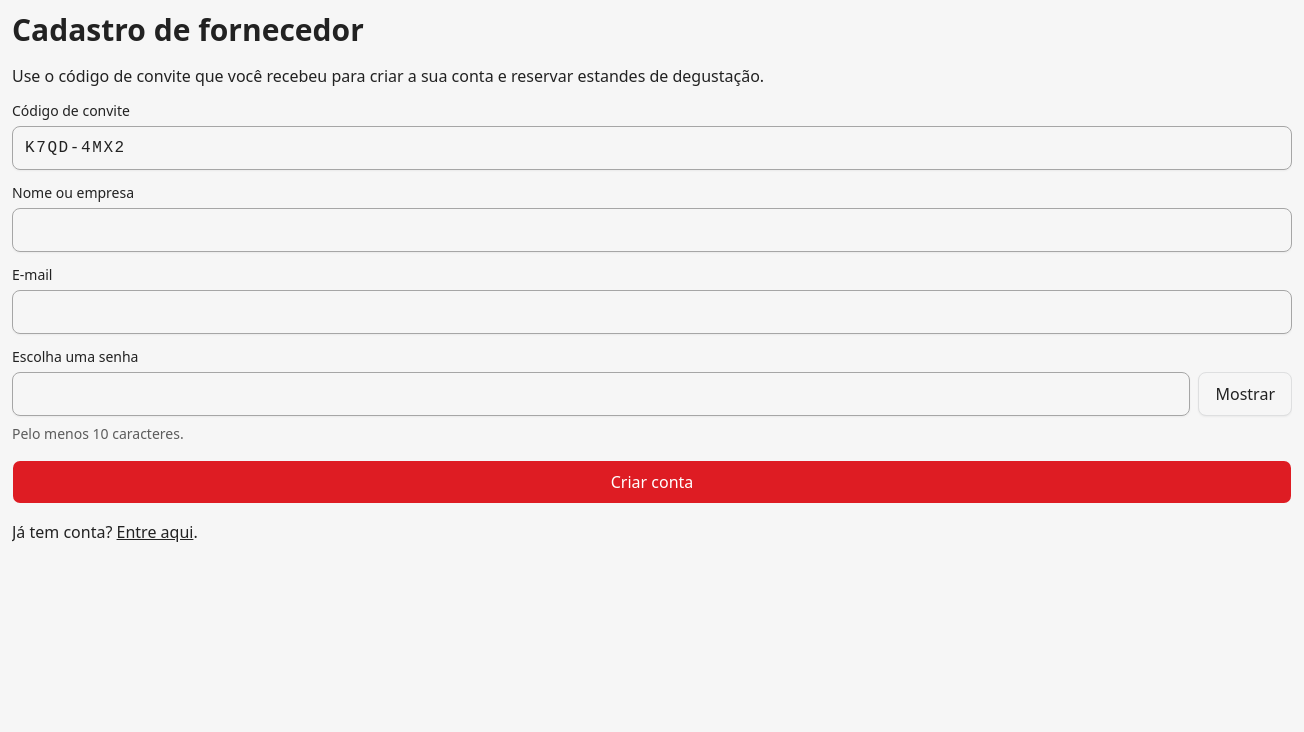
Test case: cadastro com código › conta criada mas a entrada falha: diz que a conta existe
Type "Loja Nova" into the field labelled "Nome ou empresa". click: point(652, 230)
box: [12,208,1292,252]
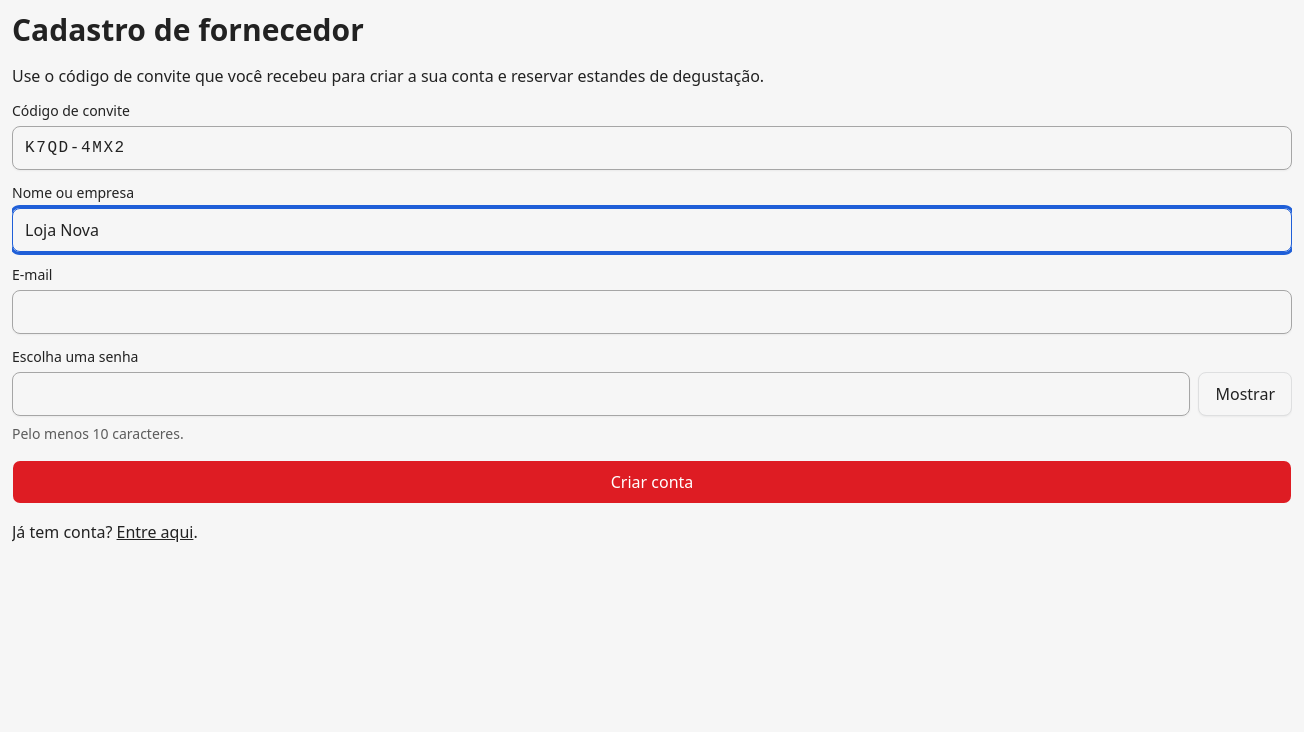
Type "nova@loja.com" into the field labelled "E-mail". click: point(652, 312)
box: [12,290,1292,334]
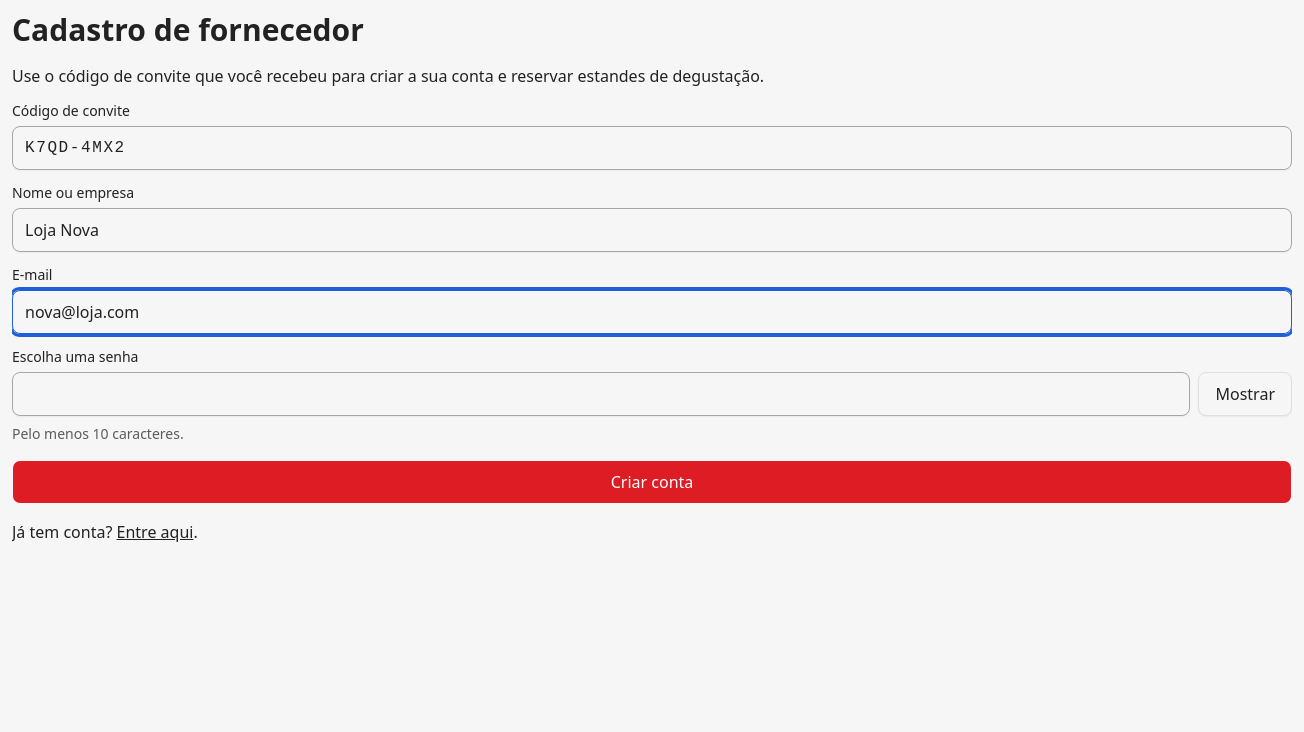
Type "uma-senha-bem-longa" into the password field labelled "Escolha uma senha". click: point(601, 394)
box: [12,372,1190,416]
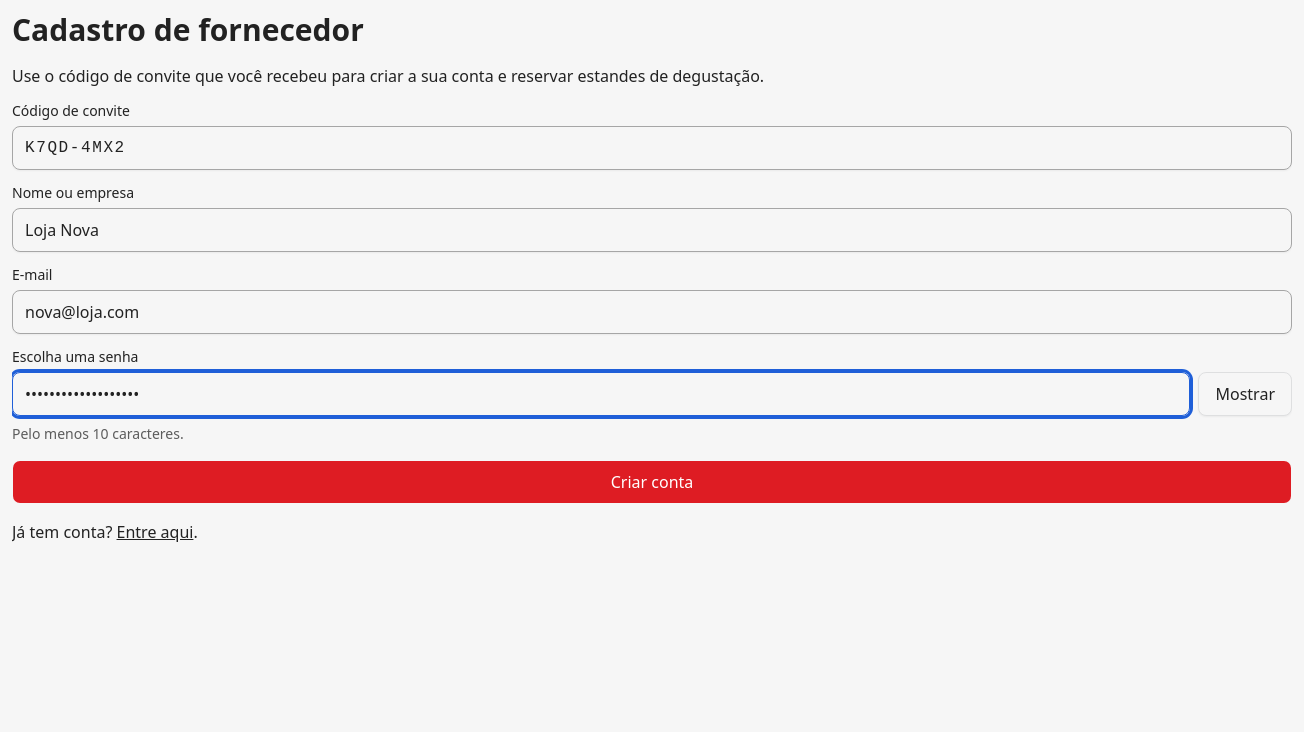
Click the button "Criar conta". click: point(652, 482)
box: [12,460,1292,504]
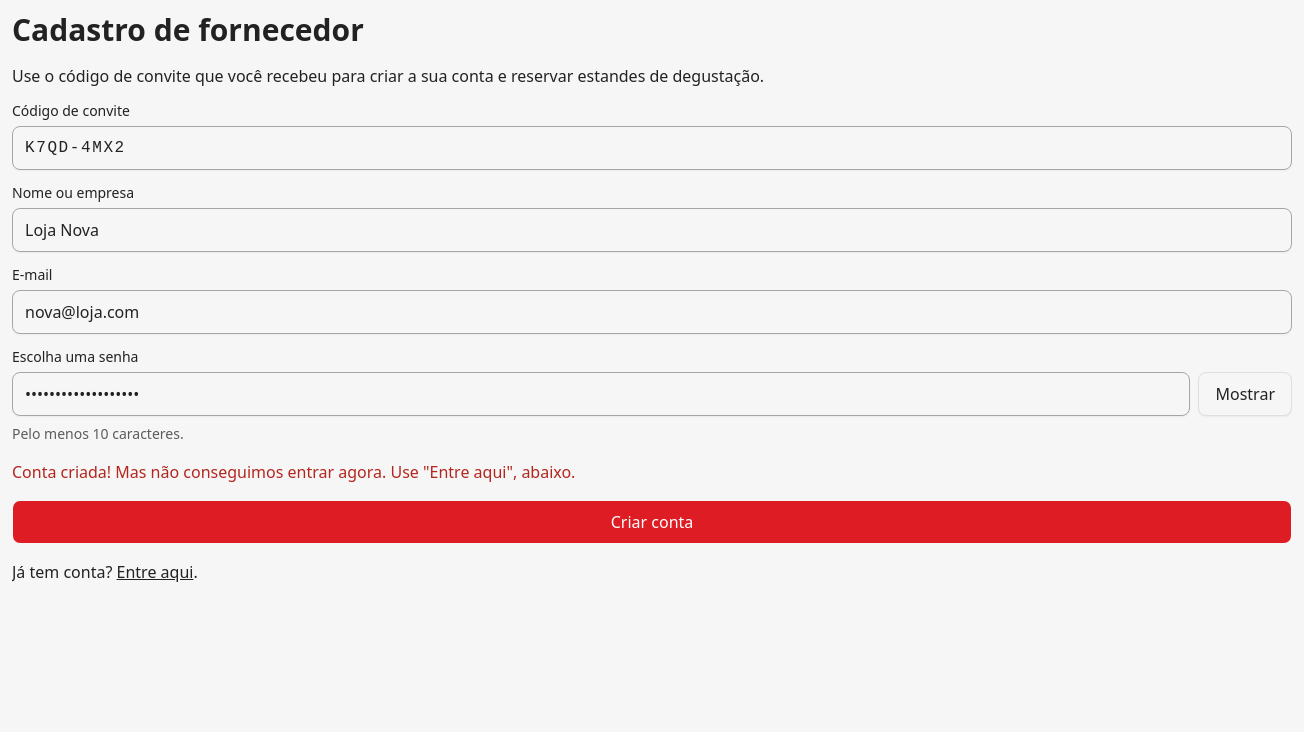
Expected: the message shows "Conta criada!", [12,461,575,483]
